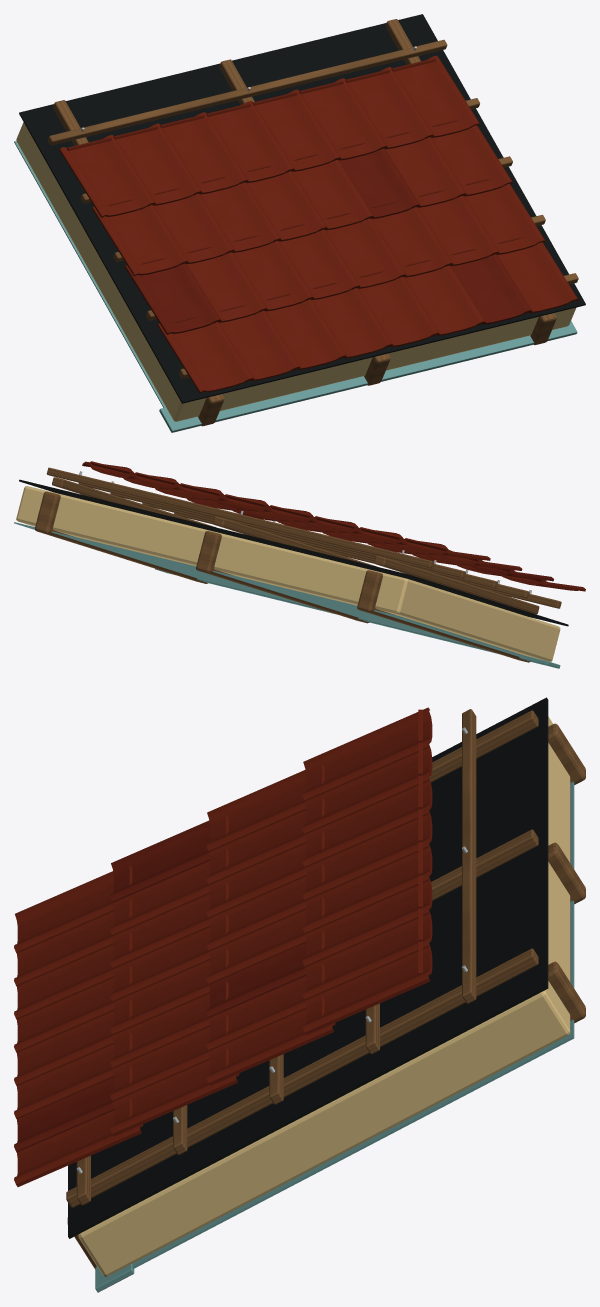
Rendered from modell.glb.
3 views of the same model, one above another, from view 1: azimuth 30°, elevation 25°; view 2: azimuth 150°, elevation 25°; view 3: azimuth 270°, elevation 25° (orthographic). The views are drawn at different scales.
Parts seen in each view (by area): view 1: g01-deckziegel_deckung, g01-zusatzebene_zusatzebene, g01-daemmung_daemmung, g01-deckziegel_deckung.001, g01-lattung_lattung, g01-innenanschluss_luftdichtheit, g01-sparren_tragwerk, g01-luftdichtheit_luftdichtheit; view 2: g01-daemmung_daemmung, g01-lattung_lattung, g01-deckziegel_deckung, g01-sparren_tragwerk, g01-luftdichtheit_luftdichtheit, g01-zusatzebene_zusatzebene, g01-innenanschluss_luftdichtheit, g01-deckziegel_deckung.001; view 3: g01-deckziegel_deckung, g01-zusatzebene_zusatzebene, g01-daemmung_daemmung, g01-lattung_lattung, g01-deckziegel_deckung.001, g01-luftdichtheit_luftdichtheit, g01-sparren_tragwerk.
Boxes of the visible parts, left/top/right/bottom form: g01-deckziegel_deckung: left=59, top=55, right=578, bottom=393; g01-zusatzebene_zusatzebene: left=19, top=14, right=585, bottom=403; g01-daemmung_daemmung: left=16, top=122, right=575, bottom=421; g01-deckziegel_deckung.001: left=125, top=148, right=532, bottom=334; g01-lattung_lattung: left=48, top=19, right=578, bottom=378; g01-innenanschluss_luftdichtheit: left=159, top=321, right=577, bottom=432; g01-sparren_tragwerk: left=198, top=313, right=556, bottom=426; g01-luftdichtheit_luftdichtheit: left=14, top=141, right=165, bottom=407; g01-daemmung_daemmung: left=16, top=486, right=560, bottom=661; g01-lattung_lattung: left=46, top=467, right=561, bottom=614; g01-deckziegel_deckung: left=82, top=461, right=585, bottom=591; g01-sparren_tragwerk: left=35, top=491, right=530, bottom=662; g01-luftdichtheit_luftdichtheit: left=14, top=522, right=543, bottom=662; g01-zusatzebene_zusatzebene: left=19, top=479, right=568, bottom=626; g01-innenanschluss_luftdichtheit: left=155, top=568, right=560, bottom=668; g01-deckziegel_deckung.001: left=213, top=500, right=553, bottom=581; g01-deckziegel_deckung: left=14, top=707, right=432, bottom=1186; g01-zusatzebene_zusatzebene: left=68, top=697, right=548, bottom=1238; g01-daemmung_daemmung: left=78, top=716, right=570, bottom=1276; g01-lattung_lattung: left=66, top=709, right=538, bottom=1207; g01-deckziegel_deckung.001: left=14, top=820, right=306, bottom=1152; g01-luftdichtheit_luftdichtheit: left=132, top=781, right=574, bottom=1268; g01-sparren_tragwerk: left=67, top=723, right=585, bottom=1269.
Bounding box in the file's own units: 2.1 × 1.07 × 1.75.
7 materials, 3 textured.
